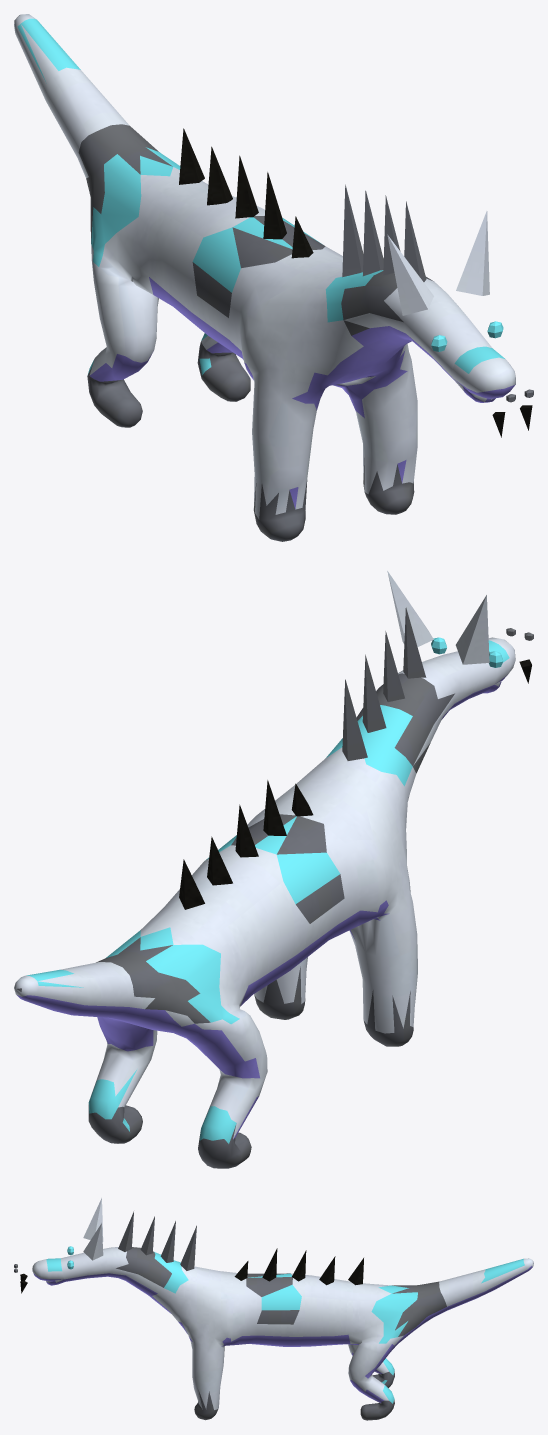
Rendered from mon_sp_rift_fox.glb.
3 views of the same model, one above another, from view 1: azimuth 30°, elevation 25°; view 2: azimuth 150°, elevation 25°; view 3: azimuth 270°, elevation 25° (orthographic). The views are drawn at different scales.
Parts seen in each view (by area): view 1: mon_sp_rift_fox; view 2: mon_sp_rift_fox; view 3: mon_sp_rift_fox.
Boxes of the visible parts, left/top/right/bottom form: mon_sp_rift_fox: left=14, top=14, right=533, bottom=541; mon_sp_rift_fox: left=14, top=571, right=533, bottom=1168; mon_sp_rift_fox: left=14, top=1198, right=533, bottom=1420.
Size of the model in its own units: 1.04 by 2.38 by 5.72.
Materials: 6 (6 with a texture image).
